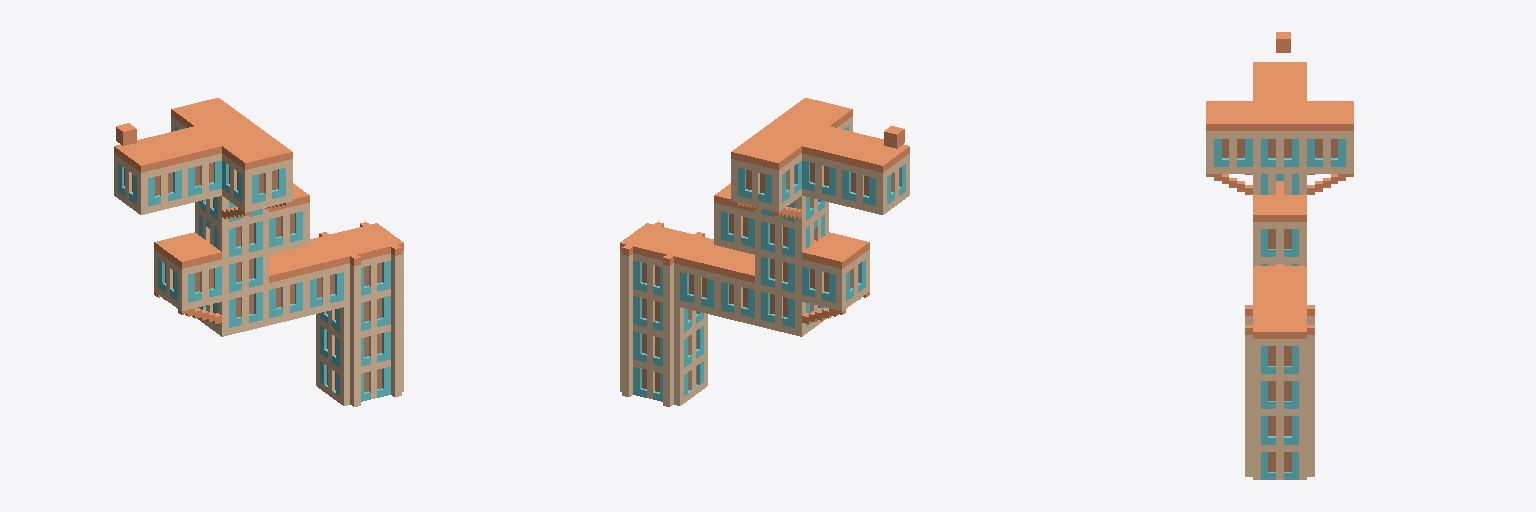
File: mdl.obj
3 views of the same model, side by side, from view 1: azimuth 30°, elevation 25°; view 2: azimuth 150°, elevation 25°; view 3: azimuth 270°, elevation 25° (orthographic).
Parts seen in each view (by area): view 1: Ноль_объект; view 2: Ноль_объект; view 3: Ноль_объект.
Part boxes in pixels (x1,y1,x2,y2): Ноль_объект: (114, 98, 403, 406); Ноль_объект: (620, 98, 909, 406); Ноль_объект: (1206, 62, 1353, 479).
Bounding box in the file's own units: 3991 × 4481 × 1900.